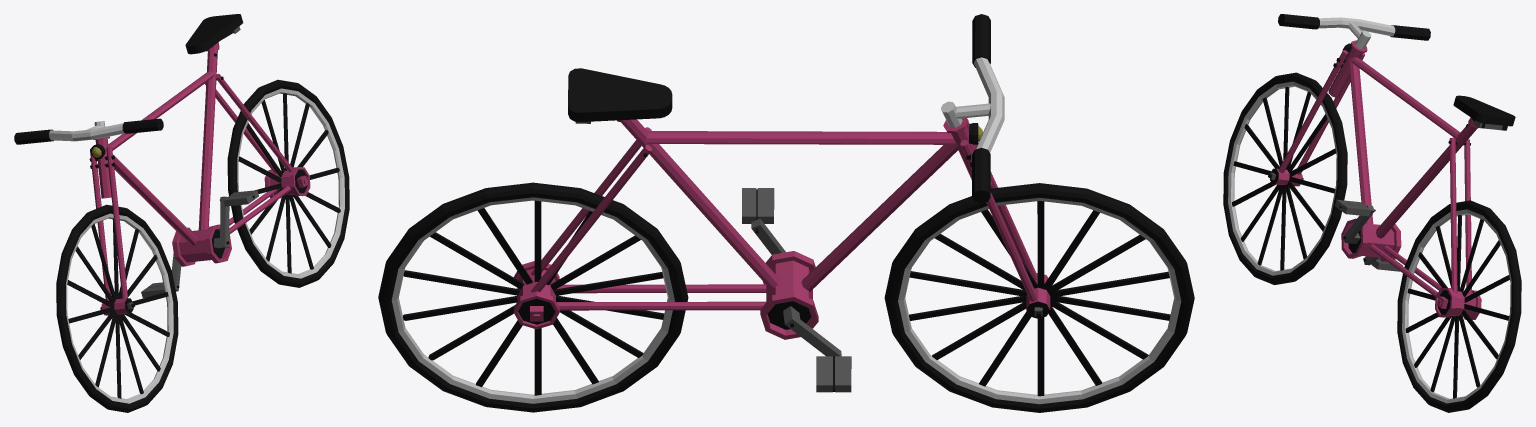
The model's file is bicycle.glb.
3 views of the same model, side by side, from view 1: azimuth 30°, elevation 25°; view 2: azimuth 150°, elevation 25°; view 3: azimuth 270°, elevation 25° (orthographic). The views are drawn at different scales.
Visible parts, largest first — view 1: bicycle; view 2: bicycle; view 3: bicycle.
Part boxes in pixels (x1,y1,x2,y2): bicycle: (14,14,349,412); bicycle: (378,14,1194,412); bicycle: (1223,14,1521,412).
Bounding box in the file's own units: 4.08 × 2.54 × 2.48.
